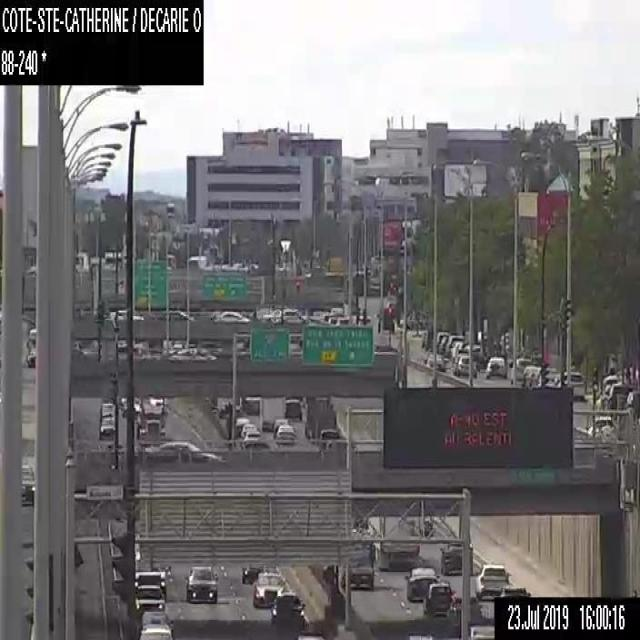vehicle: (367, 516, 419, 570), (144, 440, 217, 460), (303, 396, 336, 439), (136, 397, 167, 441), (271, 593, 305, 632), (475, 564, 511, 599), (184, 565, 218, 601), (422, 581, 454, 616), (404, 567, 438, 598), (253, 571, 282, 607), (135, 584, 165, 616), (558, 371, 584, 399), (439, 542, 461, 574), (347, 561, 372, 587), (584, 416, 616, 435), (608, 384, 630, 410), (135, 569, 165, 588), (140, 622, 173, 639), (213, 309, 250, 324), (21, 461, 34, 503), (510, 358, 532, 382), (454, 355, 476, 377), (279, 308, 307, 324), (156, 308, 193, 320), (26, 327, 37, 366), (471, 621, 494, 639), (624, 390, 639, 417), (141, 610, 168, 625), (485, 356, 505, 376), (318, 429, 339, 448), (276, 423, 295, 444), (376, 311, 394, 333), (284, 398, 302, 419), (241, 396, 262, 414), (241, 567, 266, 582), (99, 416, 115, 439), (500, 585, 530, 597), (446, 335, 463, 355), (436, 331, 449, 351), (427, 353, 443, 369), (464, 344, 480, 360), (240, 422, 257, 437), (273, 418, 287, 436), (106, 308, 128, 319), (244, 430, 261, 442), (100, 401, 113, 416), (236, 417, 248, 432), (356, 315, 371, 325), (335, 316, 350, 326), (323, 312, 341, 320), (439, 336, 447, 354), (133, 311, 145, 321), (327, 316, 337, 322)
